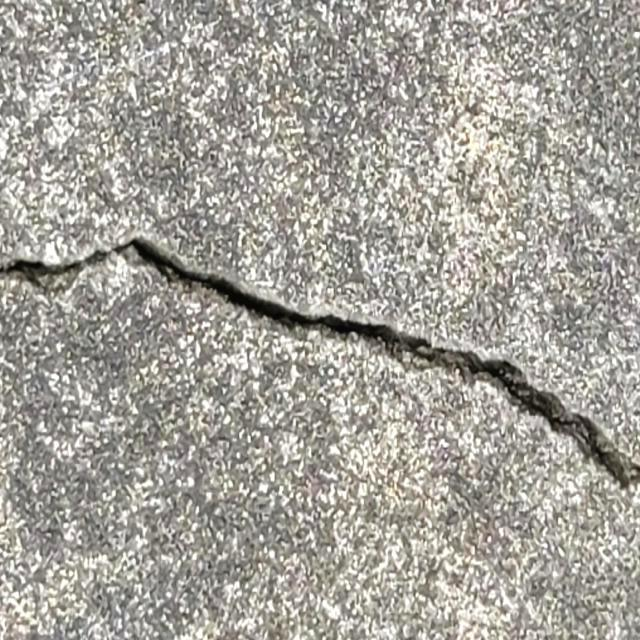SurfaceCrack: (1, 184, 640, 583)
